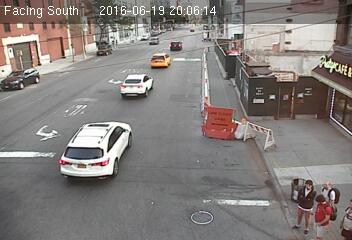neg: (62, 72, 86, 104), (90, 126, 114, 158), (139, 54, 162, 85), (13, 80, 34, 109), (169, 106, 188, 131), (236, 90, 254, 115), (191, 16, 208, 39), (14, 19, 31, 41), (320, 72, 336, 93), (90, 5, 106, 25), (256, 17, 271, 36), (256, 90, 270, 110), (126, 152, 138, 168)
pos: (285, 174, 329, 233), (304, 193, 336, 236), (331, 194, 351, 237), (318, 176, 340, 205)
